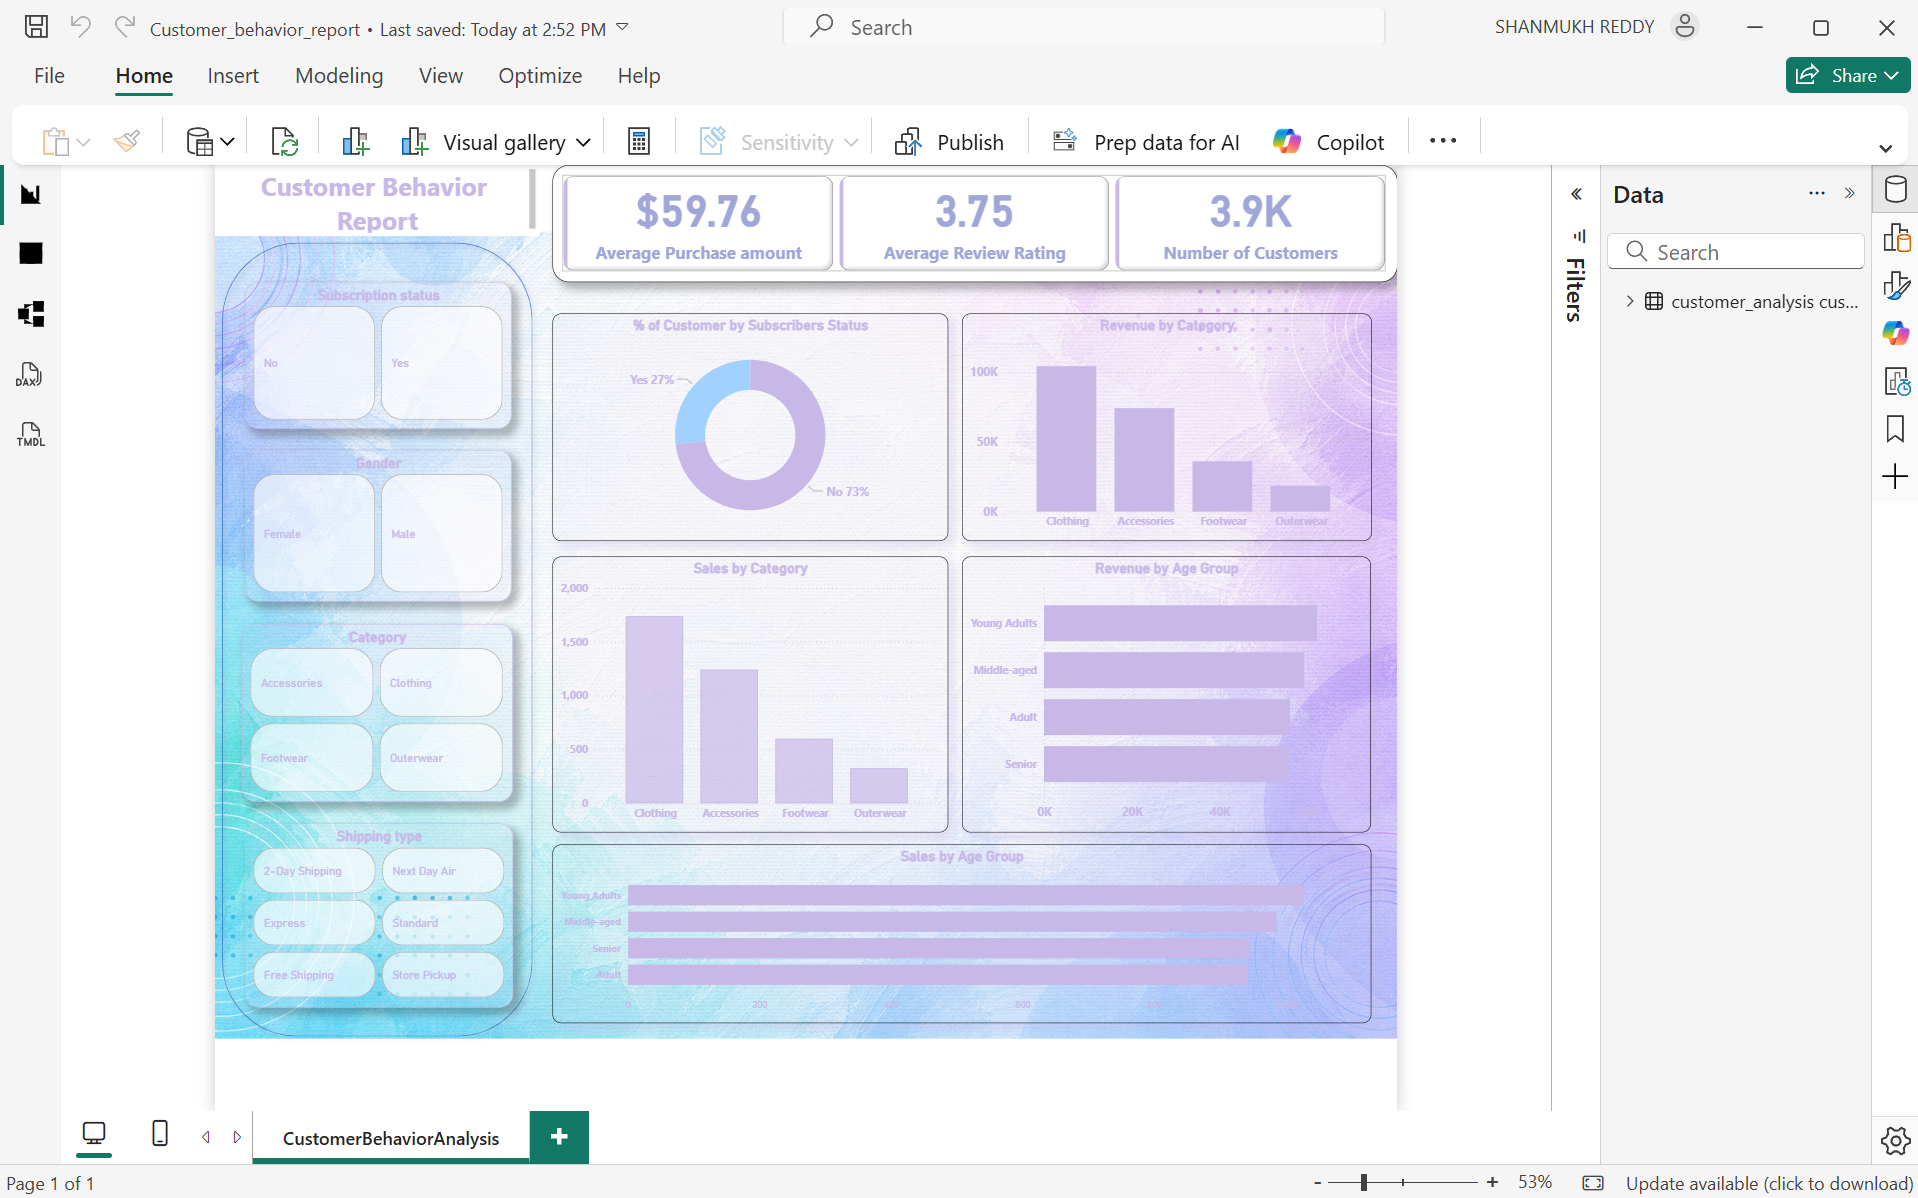

What the dashboard file says about the page in this screenshot:
{"tool":"powerbi","page":{"name":"CustomerBehaviorAnalysis","canvas":[1500,1200],"ordinal":0},"visuals":[{"type":"cardVisual","fields":{"Data":["customer_analysis customer_shopping.Average Purchase amount","customer_analysis customer_shopping.Average Review Rating","customer_analysis customer_shopping.Number of Customers"]},"box":[428.3,0,1071.7,148.3],"z":0},{"type":"donutChart","title":"% of Customer by Subscribers Status","fields":{"Category":["customer_analysis customer_shopping.subscription_status"],"Y":["CountNonNull(customer_analysis customer_shopping.customer_id)"]},"box":[428.3,188.3,501.7,288.3],"z":1000},{"type":"clusteredColumnChart","title":"Revenue by Category","fields":{"Y":["Sum(customer_analysis customer_shopping.purchase_amount)"],"Category":["customer_analysis customer_shopping.category"]},"box":[946.7,188.3,520,288.3],"z":2000},{"type":"clusteredColumnChart","title":"Sales by Category","fields":{"Y":["CountNonNull(customer_analysis customer_shopping.customer_id)"],"Category":["customer_analysis customer_shopping.category"]},"box":[428.3,496.7,501.7,350],"z":3000},{"type":"shape","box":[0,90,411.7,1025],"z":4000},{"type":"advancedSlicerVisual","title":"Subscription status","fields":{"Values":["customer_analysis customer_shopping.subscription_status"]},"box":[38,148,338,186],"z":5000},{"type":"advancedSlicerVisual","title":"Gender","fields":{"Values":["customer_analysis customer_shopping.gender"]},"box":[38,362,338,192],"z":6000},{"type":"advancedSlicerVisual","title":"Category","fields":{"Values":["customer_analysis customer_shopping.category"]},"box":[35,581.7,343.3,225],"z":7000},{"type":"advancedSlicerVisual","title":"Shipping type","fields":{"Values":["customer_analysis customer_shopping.shipping_type"]},"box":[38.3,835,340,233.3],"z":8000},{"type":"clusteredBarChart","title":"Revenue by Age Group","fields":{"Y":["Sum(customer_analysis customer_shopping.purchase_amount)"],"Category":["customer_analysis customer_shopping.age_group"]},"box":[948.3,496.7,518.3,350],"z":9000},{"type":"clusteredBarChart","title":"Sales by Age Group","fields":{"Category":["customer_analysis customer_shopping.age_group"],"Y":["CountNonNull(customer_analysis customer_shopping.customer_id)"]},"box":[428.3,861.7,1038.3,226.7],"z":10000},{"type":"textbox","box":[0,0,411.7,90],"z":11000}]}

Visuals, with their boxes on the page's 1500x1200 design canvas (x1, y1, x2, y2). These are canvas units, not pixel positions in the 1918x1198 screenshot, which may show the page scaled, cropped or inside an application window:
cardVisual - customer_analysis customer_shopping.Average Purchase amount x customer_analysis customer_shopping.Average Review Rating: region(428, 0, 1500, 148)
"% of Customer by Subscribers Status" donutChart: region(428, 188, 930, 477)
"Revenue by Category" clusteredColumnChart: region(947, 188, 1467, 477)
"Sales by Category" clusteredColumnChart: region(428, 497, 930, 847)
shape: region(0, 90, 412, 1115)
"Subscription status" advancedSlicerVisual: region(38, 148, 376, 334)
"Gender" advancedSlicerVisual: region(38, 362, 376, 554)
"Category" advancedSlicerVisual: region(35, 582, 378, 807)
"Shipping type" advancedSlicerVisual: region(38, 835, 378, 1068)
"Revenue by Age Group" clusteredBarChart: region(948, 497, 1467, 847)
"Sales by Age Group" clusteredBarChart: region(428, 862, 1467, 1088)
textbox: region(0, 0, 412, 90)
